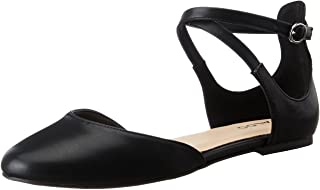shoes: (1, 1, 319, 190)
